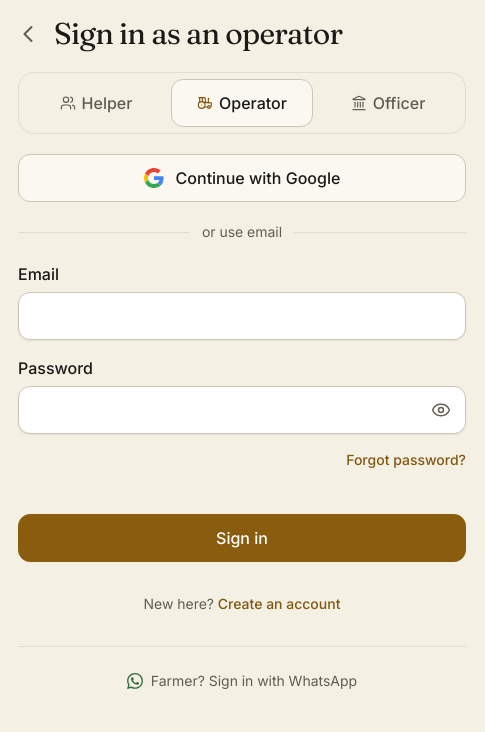
Test: staff sign-in card › show / hide password is a labelled, pressable button, and Caps Lock is announced
Click the button named "Show password".
click(441, 410)  # box left=417, top=387, right=465, bottom=433
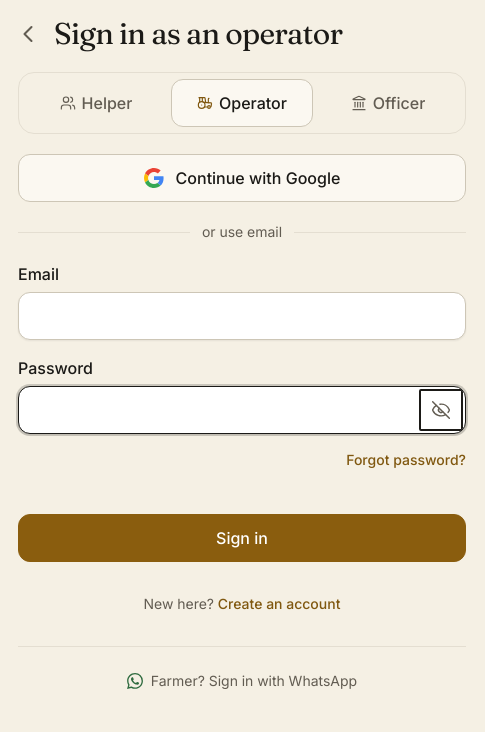
Check: the button named "Hide password" is pressed, box left=417, top=387, right=465, bottom=433
Press A in the field labelled "Password", box left=19, top=387, right=417, bottom=433
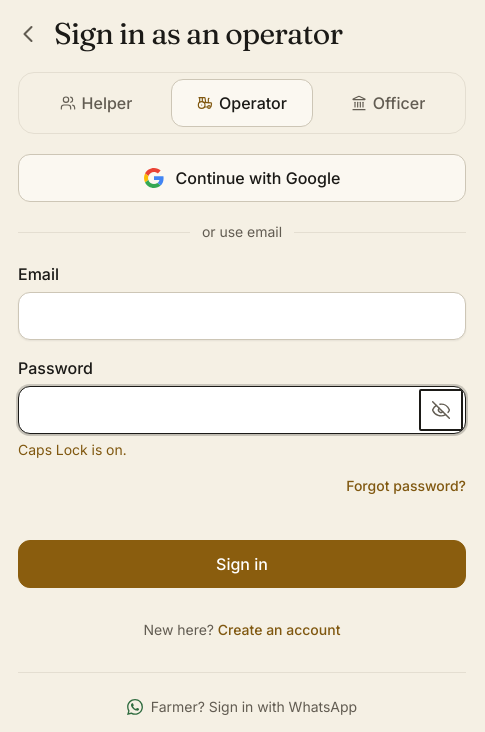
Check: the text "Caps Lock is on." is shown, box left=18, top=441, right=126, bottom=458
